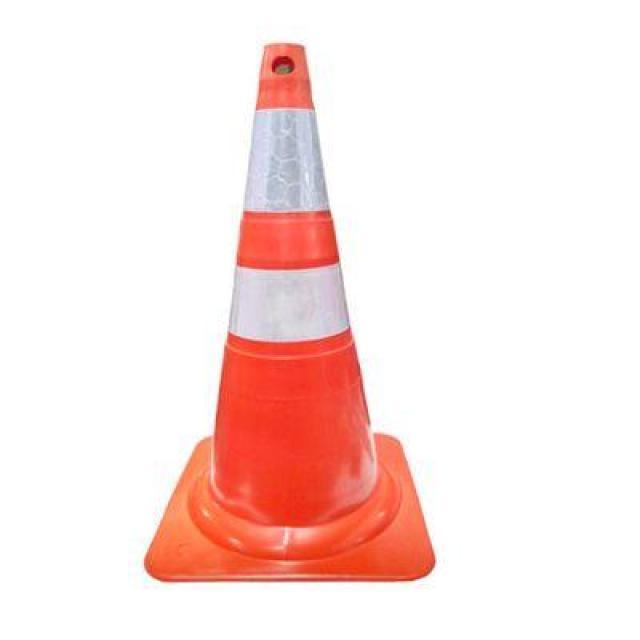traffic cone: (142, 41, 439, 582)
